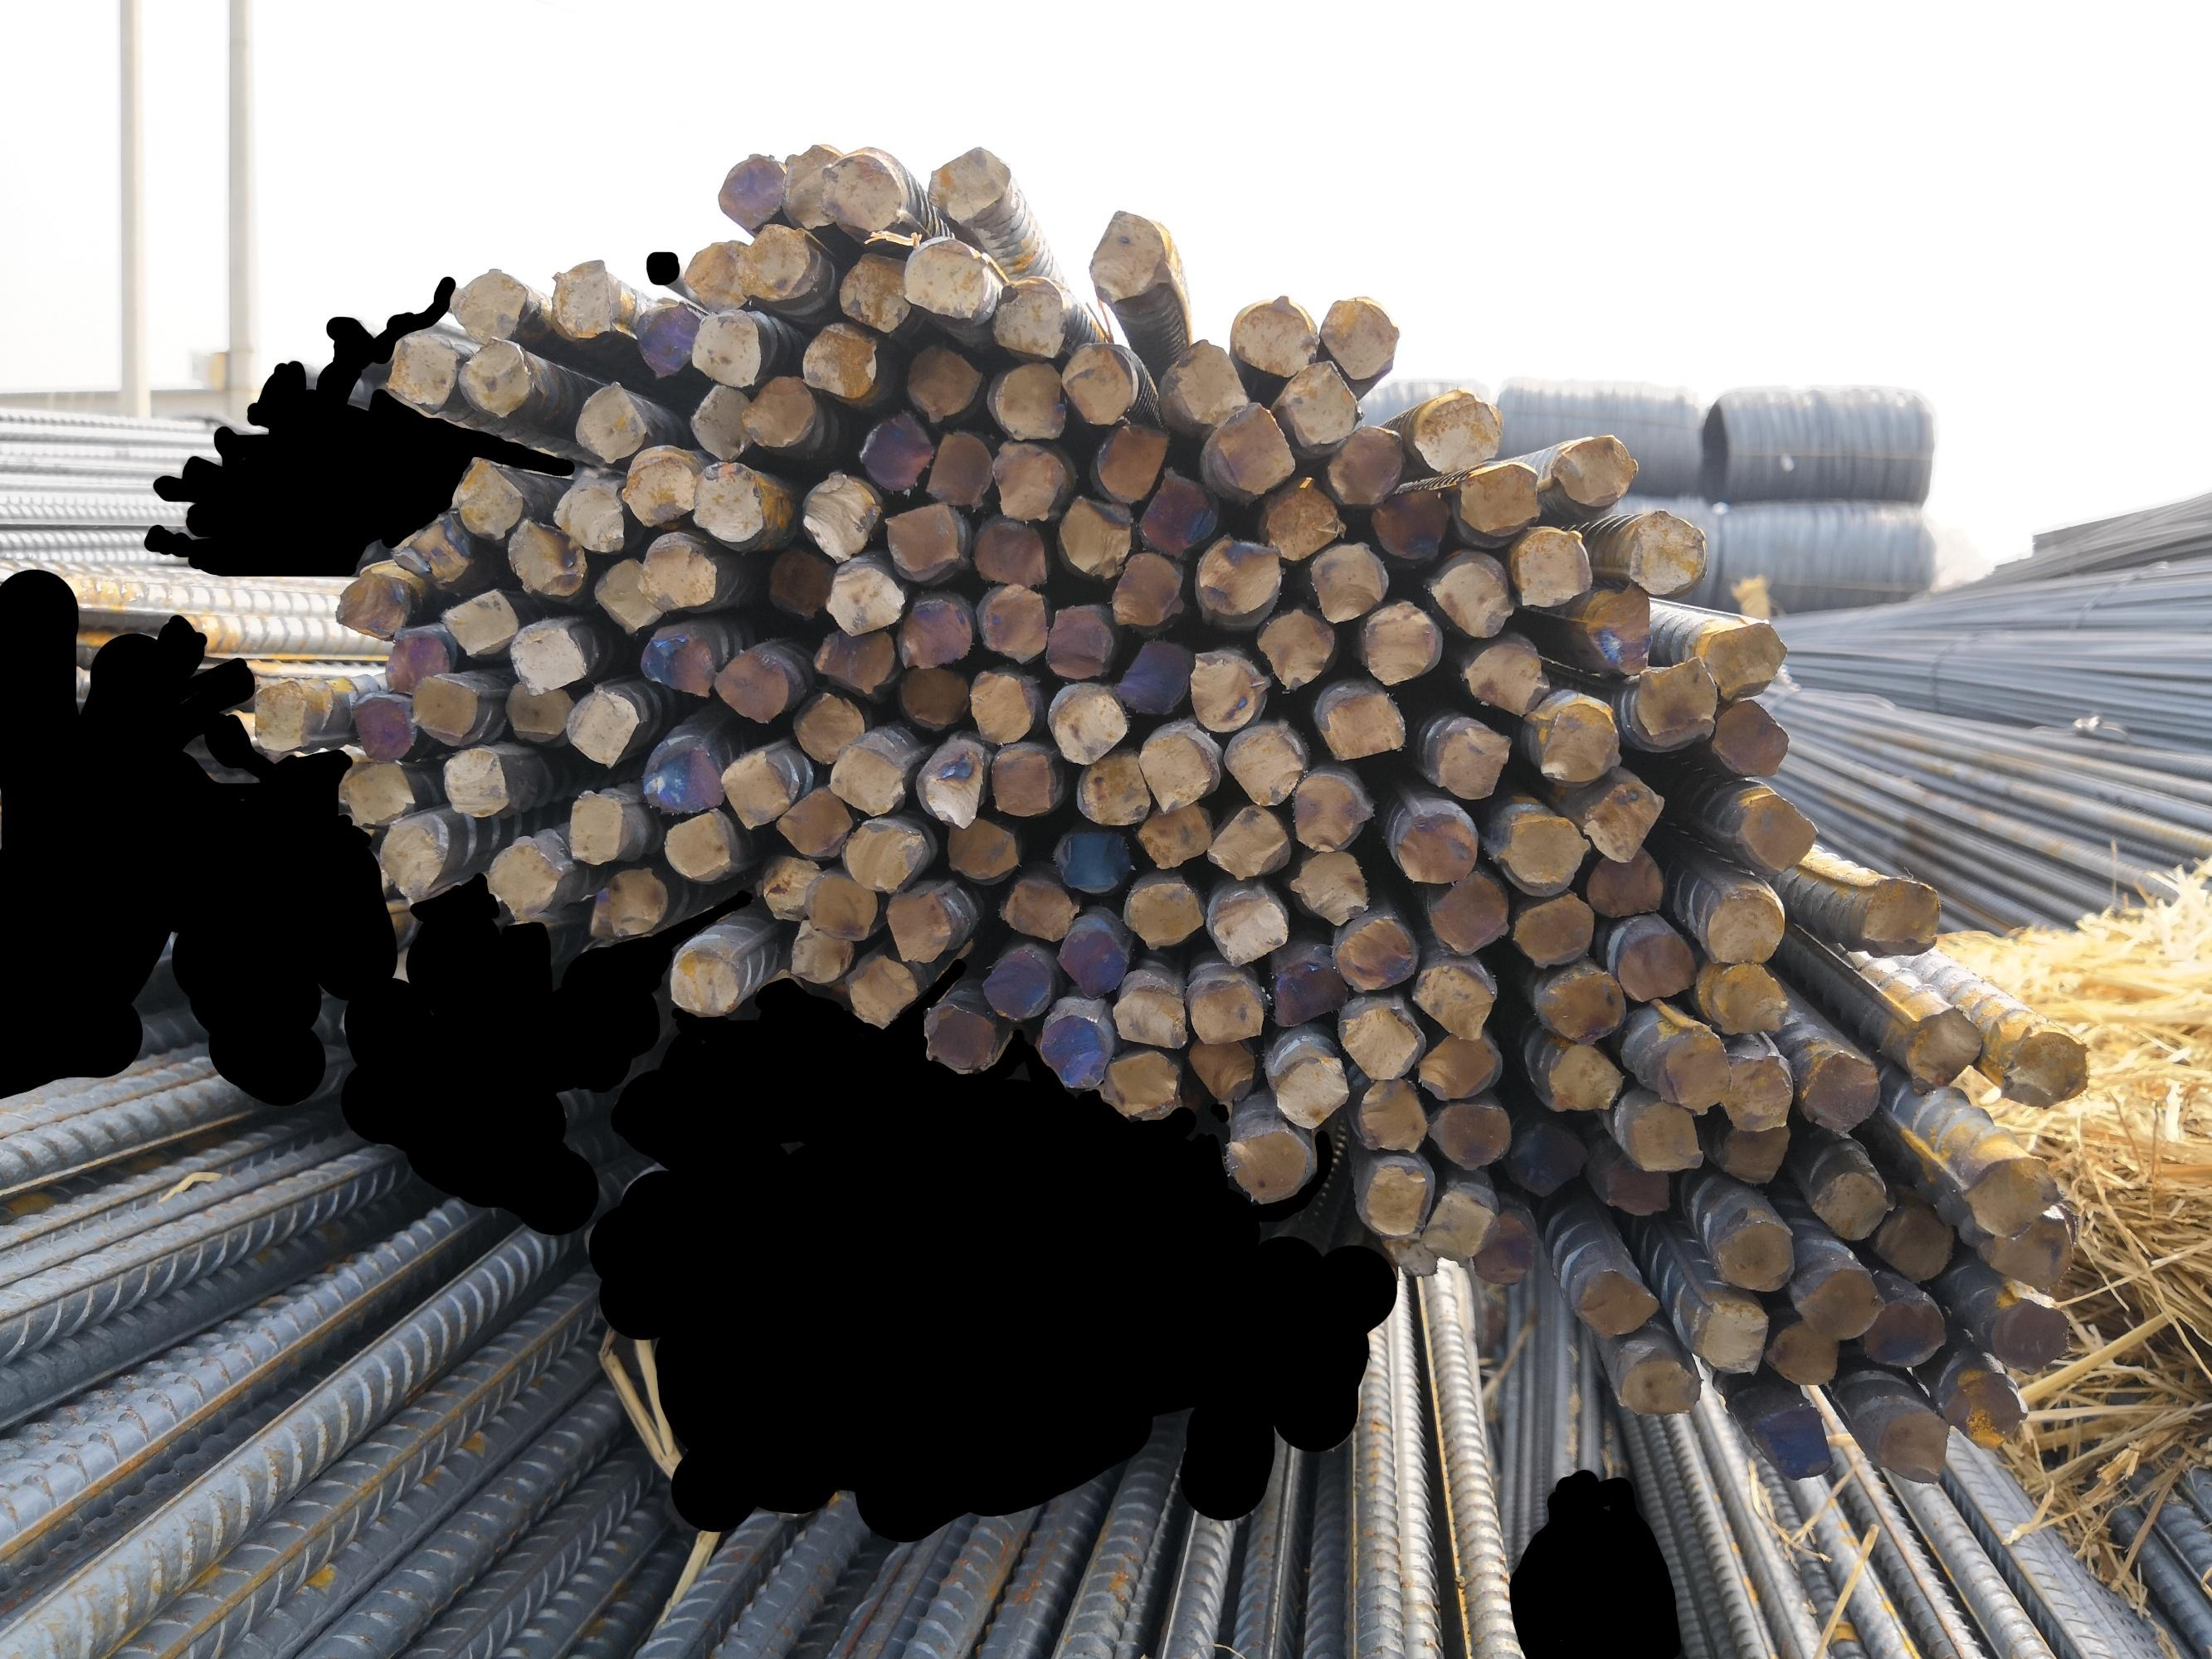bar: (1952, 1143, 2066, 1246), (1079, 204, 1177, 305), (1203, 399, 1297, 497), (1408, 383, 1508, 476), (1630, 650, 1720, 751), (1135, 460, 1224, 561), (1895, 999, 1984, 1100), (1276, 354, 1370, 446), (1262, 467, 1349, 566), (1998, 1021, 2093, 1110), (1574, 579, 1661, 676), (1623, 504, 1712, 598), (1696, 615, 1792, 702), (798, 467, 882, 566), (1703, 692, 1794, 782), (922, 139, 1014, 228), (1220, 716, 1309, 809), (896, 230, 987, 319), (1536, 699, 1625, 789), (1797, 1044, 1884, 1136), (818, 145, 903, 239), (1194, 526, 1279, 620), (1403, 958, 1497, 1044), (1870, 1190, 1956, 1284), (1252, 605, 1340, 694), (1698, 880, 1787, 969), (1619, 1089, 1710, 1176), (851, 404, 936, 497), (1323, 416, 1408, 509), (1332, 999, 1424, 1084), (1426, 556, 1518, 641), (1496, 812, 1590, 896), (1745, 1398, 1839, 1481), (1651, 1019, 1733, 1115), (1302, 538, 1389, 627), (1178, 643, 1265, 732), (1729, 786, 1818, 873), (1853, 871, 1942, 958), (1109, 627, 1192, 720), (1607, 924, 1700, 1007), (987, 430, 1069, 525), (1318, 291, 1400, 385), (1424, 868, 1511, 955), (500, 514, 589, 599), (1461, 629, 1550, 714), (1581, 774, 1666, 863), (988, 350, 1072, 441), (1327, 911, 1417, 995), (380, 505, 472, 587), (1133, 725, 1215, 817), (903, 333, 985, 425), (1055, 490, 1137, 582), (690, 453, 770, 547), (1168, 335, 1246, 430), (1698, 958, 1794, 1037), (450, 331, 537, 416), (1229, 293, 1316, 378), (1204, 882, 1290, 969), (1706, 1209, 1794, 1295), (1415, 1019, 1504, 1103), (988, 272, 1070, 362), (1360, 598, 1442, 688), (1792, 1260, 1883, 1342), (427, 584, 523, 660), (1548, 430, 1644, 507), (1984, 1206, 2069, 1291), (1511, 526, 1598, 610), (1987, 1288, 2071, 1375), (1536, 1030, 1625, 1112), (1095, 416, 1173, 509), (1717, 1044, 1795, 1136), (1508, 890, 1602, 967), (1572, 1260, 1666, 1337), (558, 683, 640, 770), (1288, 767, 1370, 854), (568, 378, 648, 467), (1056, 340, 1137, 429), (1204, 800, 1293, 880), (838, 817, 929, 896), (924, 420, 1001, 512), (1449, 458, 1541, 535), (441, 263, 525, 347), (1046, 681, 1130, 765), (1105, 545, 1189, 629), (797, 317, 882, 399), (1504, 1115, 1590, 1197), (879, 497, 966, 577), (1225, 1124, 1314, 1202), (485, 833, 561, 924), (1314, 685, 1405, 762), (636, 742, 729, 817), (1532, 972, 1626, 1046), (685, 305, 767, 389), (1290, 847, 1372, 931), (1869, 1403, 1952, 1485), (380, 328, 458, 415), (729, 221, 816, 300), (1391, 805, 1478, 884), (833, 244, 910, 333), (377, 809, 451, 899), (542, 253, 617, 343), (772, 138, 847, 228), (1431, 720, 1513, 802), (786, 685, 866, 769), (917, 995, 1001, 1075), (1693, 1297, 1773, 1380), (1037, 596, 1116, 681), (1354, 1070, 1431, 1157), (1098, 1047, 1187, 1122), (737, 371, 819, 451), (774, 782, 856, 863), (823, 739, 905, 819), (1811, 1166, 1893, 1246), (892, 594, 976, 673), (1867, 1291, 1951, 1370), (1945, 1375, 2029, 1453), (329, 565, 415, 641), (504, 620, 589, 697), (634, 537, 720, 613), (1272, 1049, 1349, 1134), (1586, 842, 1672, 918), (718, 744, 793, 831), (1121, 875, 1208, 950), (969, 512, 1049, 592), (1368, 484, 1449, 565), (1595, 1140, 1675, 1220), (1761, 1309, 1841, 1389), (713, 643, 791, 725), (842, 950, 920, 1032), (1070, 751, 1152, 829), (1428, 1098, 1511, 1175), (451, 451, 525, 538), (976, 577, 1049, 664), (1182, 972, 1269, 1046), (809, 622, 898, 694), (819, 566, 908, 638), (617, 450, 697, 528), (551, 477, 628, 559), (1184, 1026, 1260, 1108), (1131, 795, 1215, 870), (586, 556, 664, 634), (1715, 1110, 1794, 1188), (1419, 1185, 1499, 1262), (711, 150, 786, 232), (633, 629, 716, 702), (917, 742, 987, 829), (798, 864, 873, 945), (1035, 1012, 1110, 1093), (1354, 1157, 1429, 1237), (997, 877, 1082, 946), (879, 887, 953, 965), (1271, 953, 1349, 1028), (892, 657, 973, 730), (1055, 922, 1128, 1002), (1053, 823, 1133, 896), (335, 760, 418, 829), (493, 676, 577, 746), (685, 378, 755, 462), (659, 805, 734, 882), (664, 943, 741, 1018), (983, 739, 1055, 819), (940, 814, 1021, 884), (760, 540, 830, 622), (980, 946, 1055, 1021), (343, 688, 415, 767), (1469, 1206, 1537, 1288), (636, 295, 701, 380), (964, 662, 1028, 748), (401, 673, 479, 742), (1616, 1358, 1705, 1419), (438, 746, 511, 819), (375, 624, 451, 694), (603, 863, 669, 943), (755, 847, 821, 927), (563, 782, 626, 866), (1107, 985, 1187, 1049), (682, 237, 750, 312), (248, 676, 310, 753), (788, 917, 854, 983), (1377, 1227, 1438, 1279), (582, 882, 614, 943)
